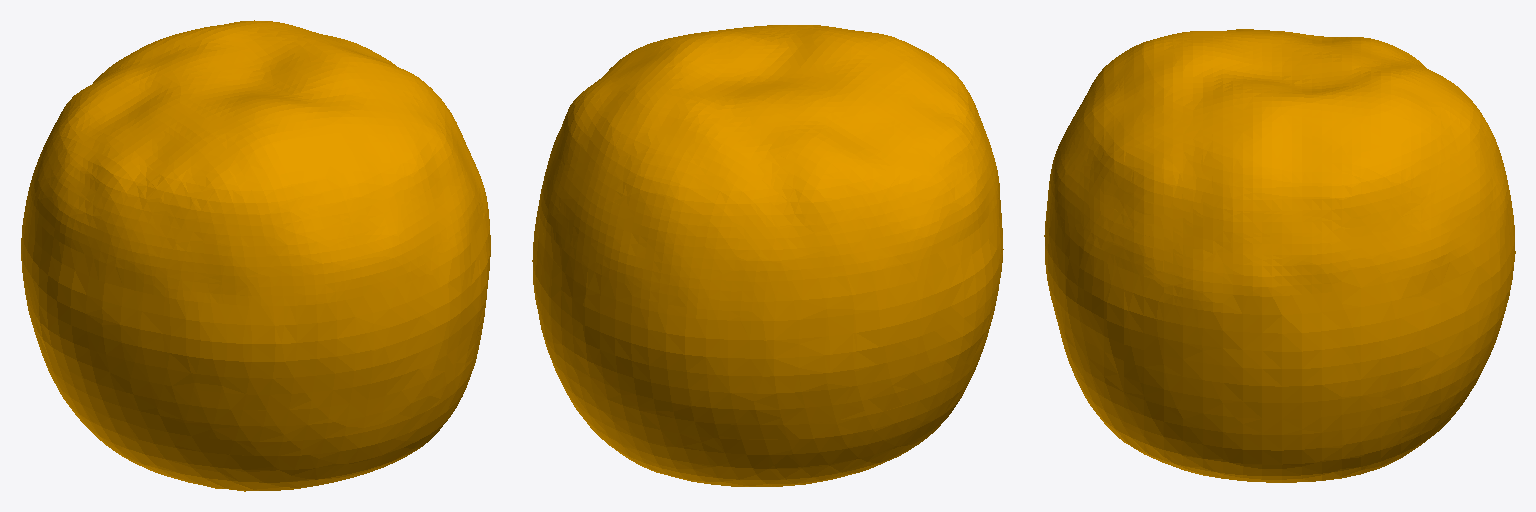
The robot description file, URDF, robot "013_apple":
<?xml version="1.0"?>
<robot name="013_apple">
  <link name="base_link">
    <inertial>
      <origin xyz="-0.007254 0.003573 0.039567" rpy="0 0 0" />
      <mass value="0.271354" />
      <inertia ixx="0.00017381" ixy="-0.00000042" ixz="0.00000266"
               iyy="0.00017218" iyz="0.00000004" izz="0.00018335" />
    </inertial>
    <visual>
      <geometry><mesh filename="013_apple.stl" scale="1.0 1.0 1.0" /></geometry>
    </visual>
    <collision>
      <geometry><mesh filename="013_apple_col.obj" scale="1.0 1.0 1.0" /></geometry>
    </collision>
    <contact>
      <lateral_friction value="1.0"/>
    </contact>
  </link>
</robot>

--- Render facts (derived) ---
Views: 3 orthographic renders of the robot side by side, from view 1: azimuth 30°, elevation 25°; view 2: azimuth 150°, elevation 25°; view 3: azimuth 270°, elevation 25°.
Robot: 013_apple — 1 links, 0 joints (none); root link base_link; default pose: every joint at zero.
Links seen in each view (by area): view 1: base_link; view 2: base_link; view 3: base_link.
Link boxes in pixels (x1,y1,x2,y2): base_link: (21,20,490,491); base_link: (532,25,1003,486); base_link: (1044,29,1515,482).
Bounding box of the posed robot: 0.0808 × 0.0813 × 0.0705 m (x, y, z).
Meshes: 1 distinct files referenced, 1 mesh visuals loaded (1 binary STL).
